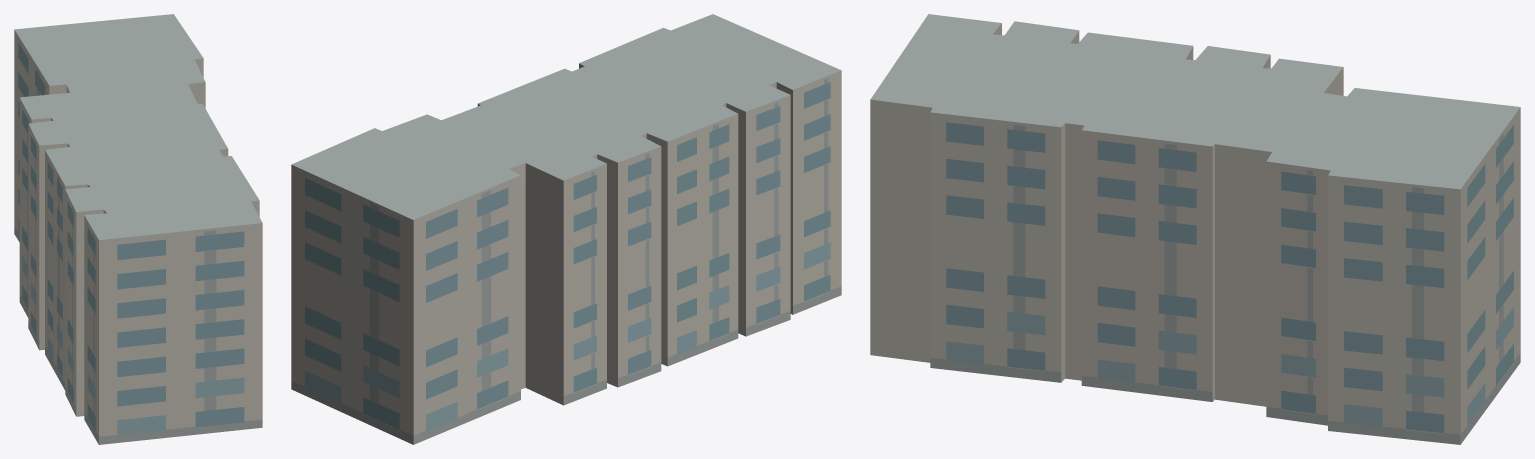
The model's file is survey-upis-32855701.glb.
The picture shows the model from 3 angles, left to right: view 1: azimuth 30°, elevation 25°; view 2: azimuth 150°, elevation 25°; view 3: azimuth 270°, elevation 25°; orthographic projection. The views are drawn at different scales.
Parts seen in each view (by area): view 1: survey-upis-32855701.tmp; view 2: survey-upis-32855701.tmp; view 3: survey-upis-32855701.tmp.
Part boxes in pixels (left/top/right/bottom): survey-upis-32855701.tmp: left=14, top=14, right=262, bottom=444; survey-upis-32855701.tmp: left=291, top=14, right=841, bottom=444; survey-upis-32855701.tmp: left=870, top=14, right=1520, bottom=444.
Size of the model in its own units: 32.32 by 21.95 by 50.63.
